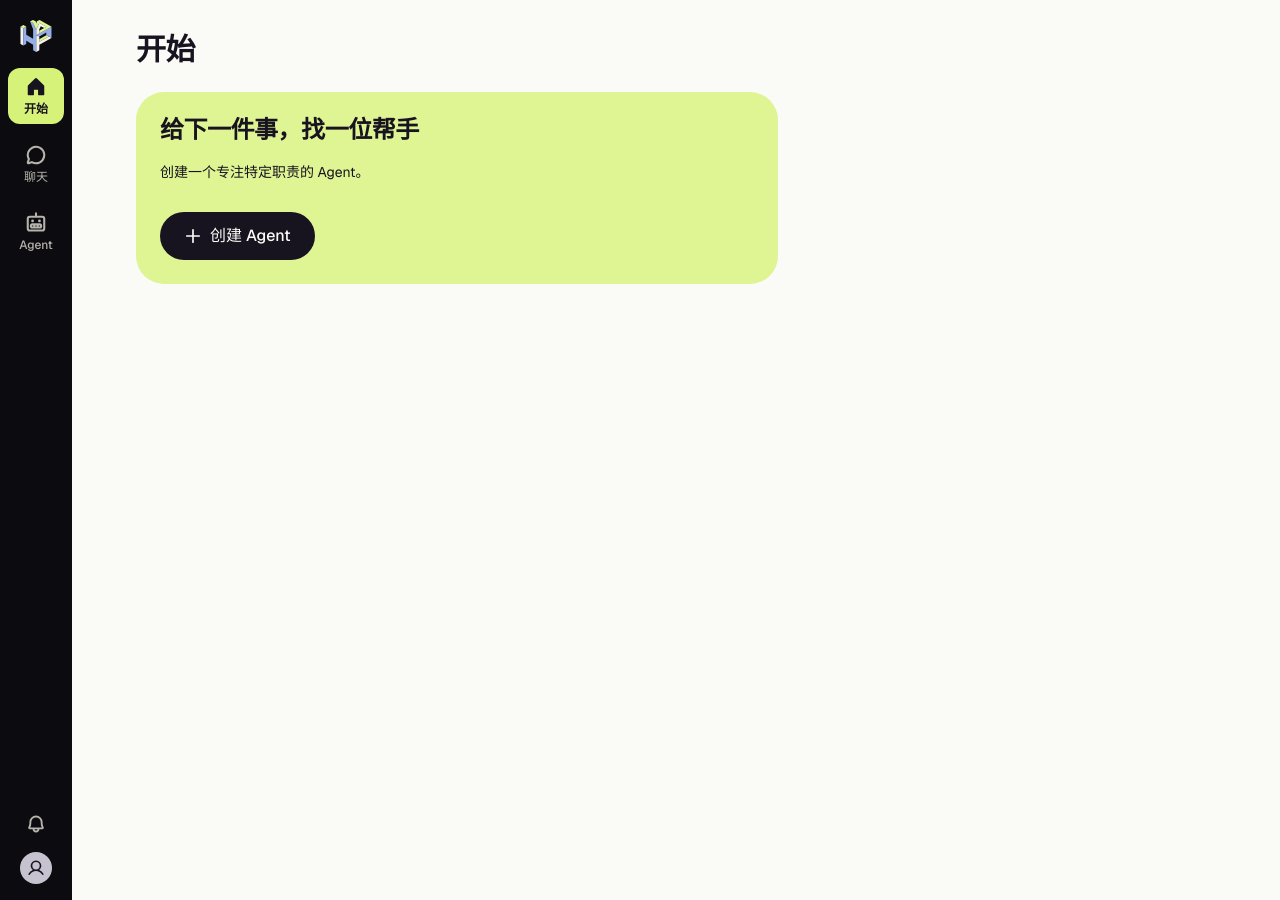
Scenario: fixture app shell › opens account settings and shows no empty device entry without collecting account tokens
The image size is (1280, 900).
Click the button named "我的账号与 Agent 设置菜单": point(36, 868) [16,848,56,888]
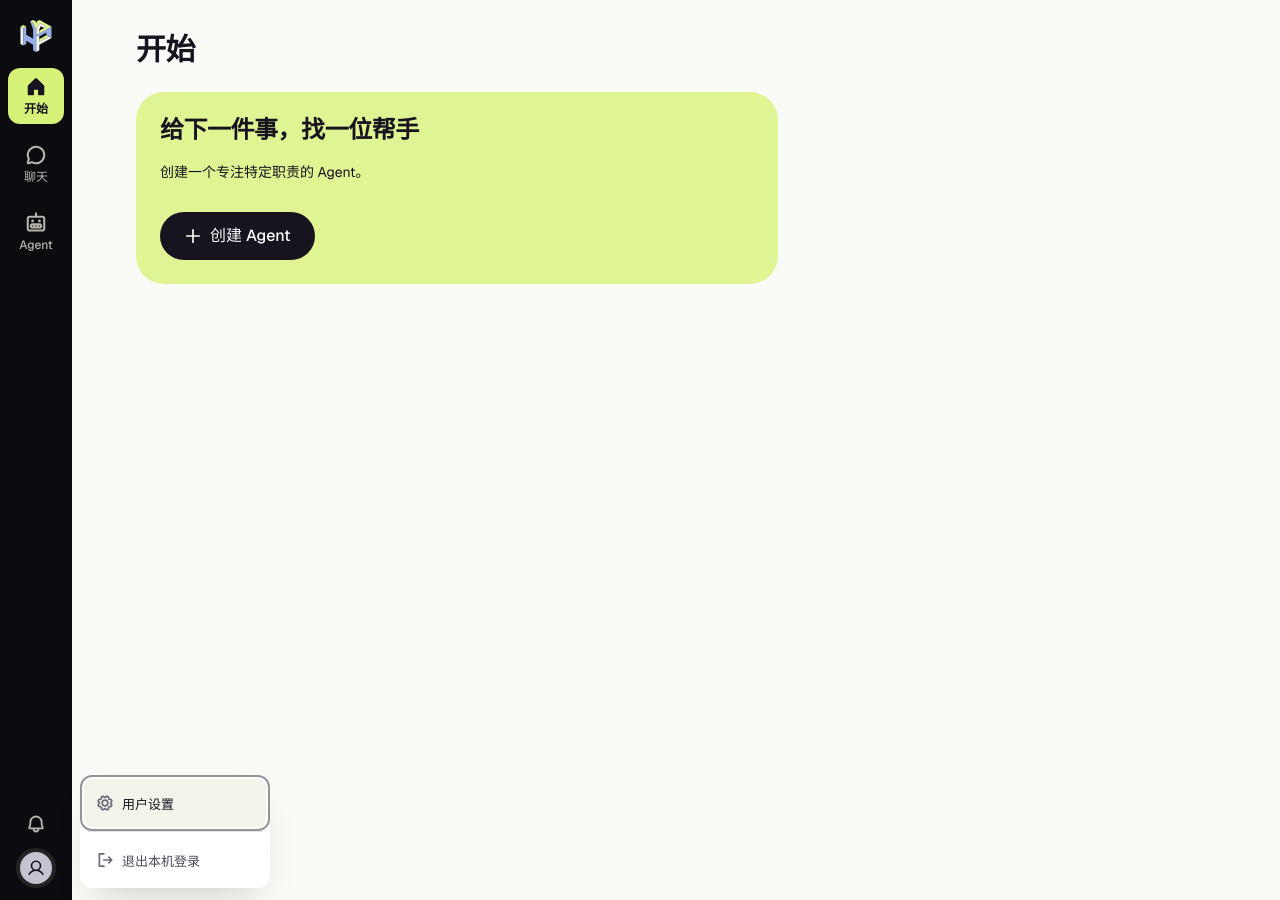
Click the menu item "用户设置": point(175, 803) [84,779,266,827]
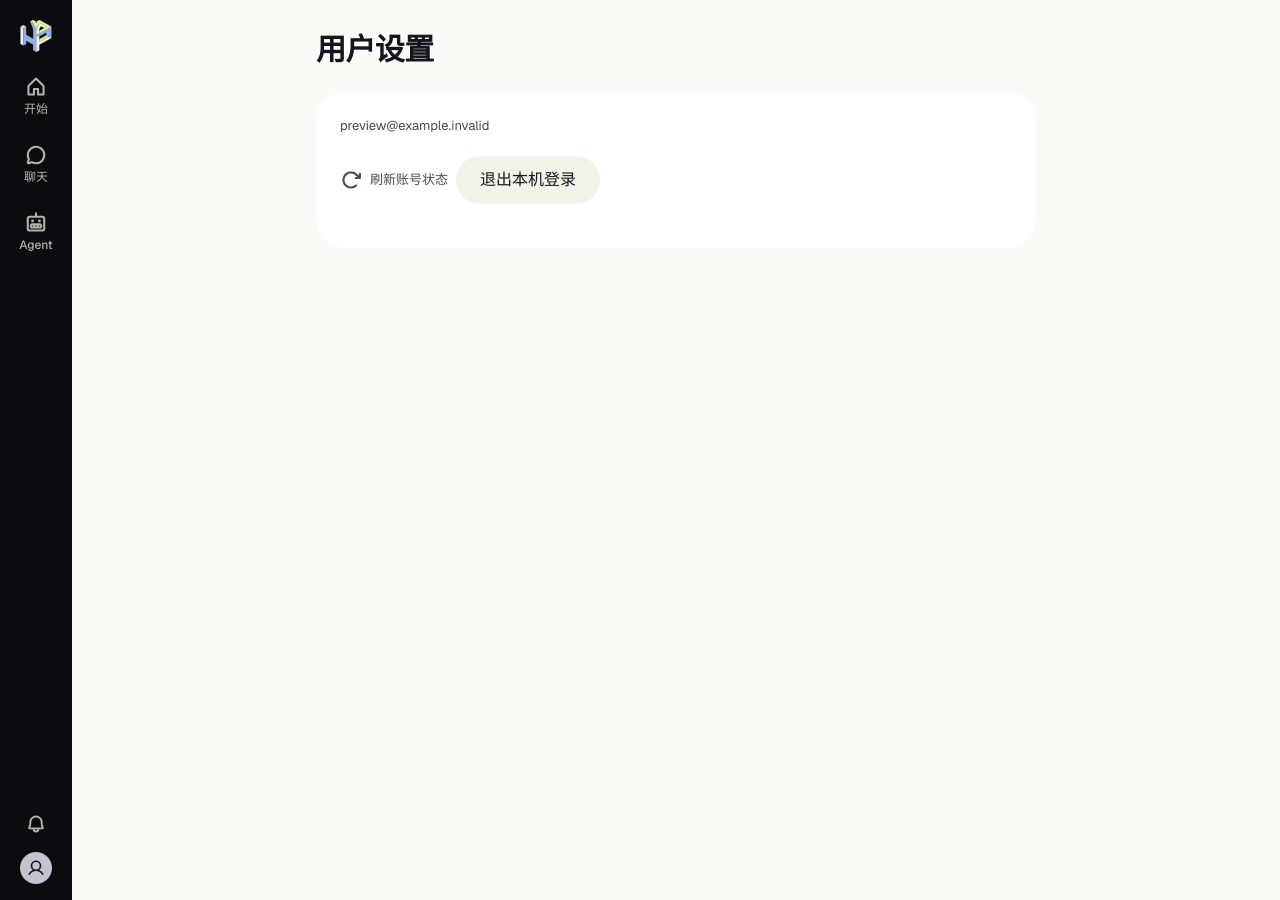
Check: the element named "账号登录" is shown, box [316,92,1036,248]
